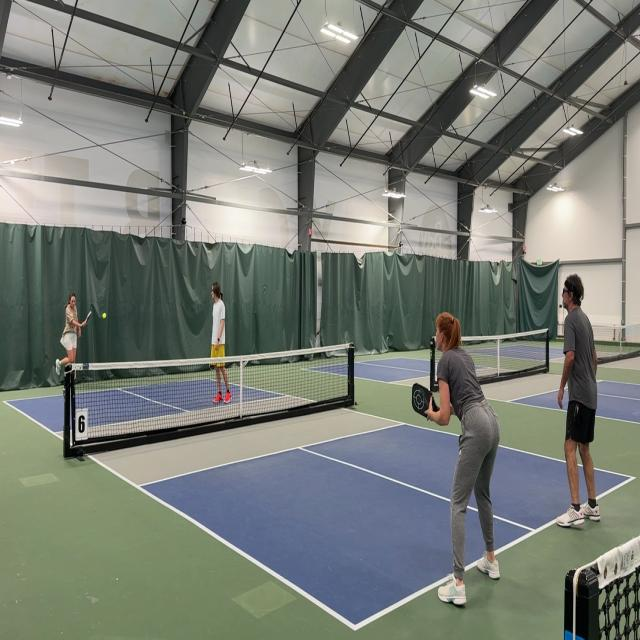ball: (102, 312, 107, 320)
